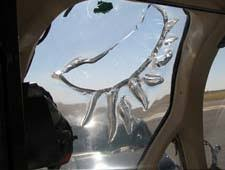crack: (58, 20, 157, 140)
